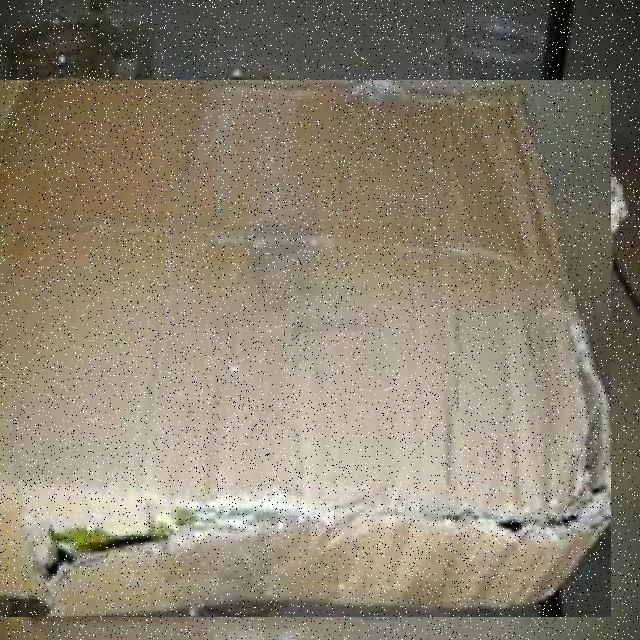defect: (0, 80, 611, 617)
